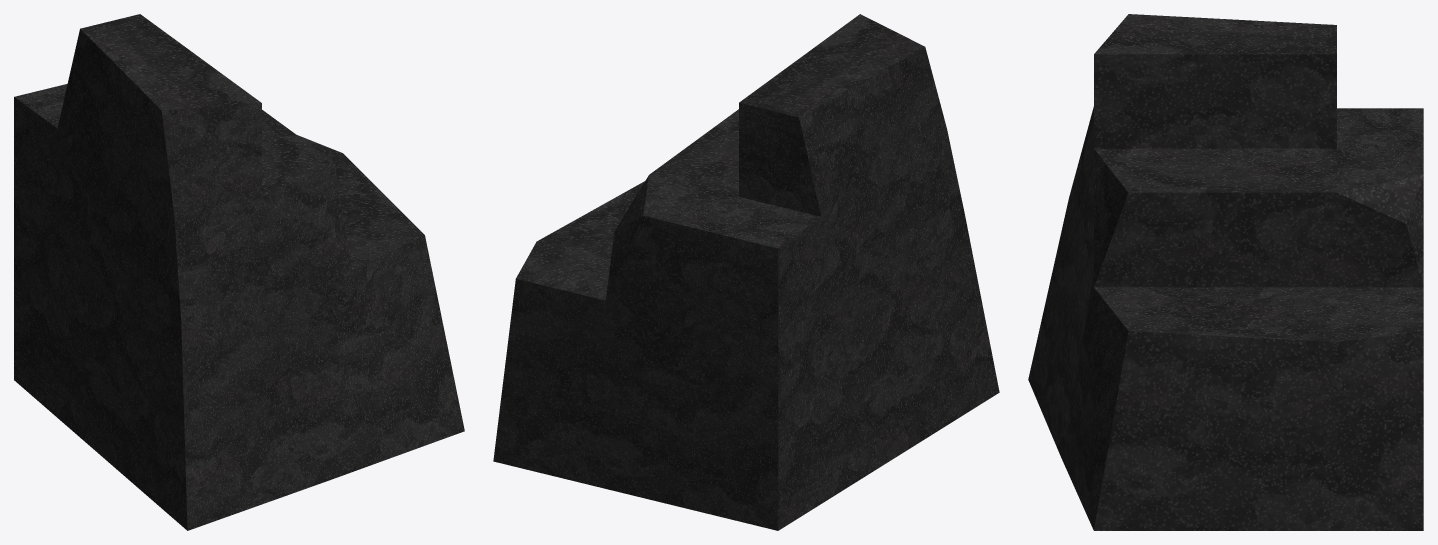
Rendered from rock_3.fbx.
3 views of the same model, side by side, from view 1: azimuth 30°, elevation 25°; view 2: azimuth 150°, elevation 25°; view 3: azimuth 270°, elevation 25° (orthographic).
Visible parts, largest first — view 1: Rock3.001; view 2: Rock3.001; view 3: Rock3.001.
Part boxes in pixels (x1,y1,x2,y2): Rock3.001: (14, 14, 464, 530); Rock3.001: (493, 14, 999, 530); Rock3.001: (1028, 14, 1423, 530).
Size of the model in its own units: 1031 by 1200 by 1139.
